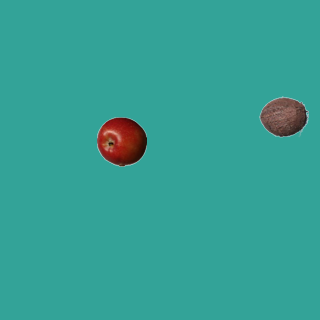Apple Braeburn: (96, 116, 146, 166)
Cocos: (258, 91, 308, 141)
